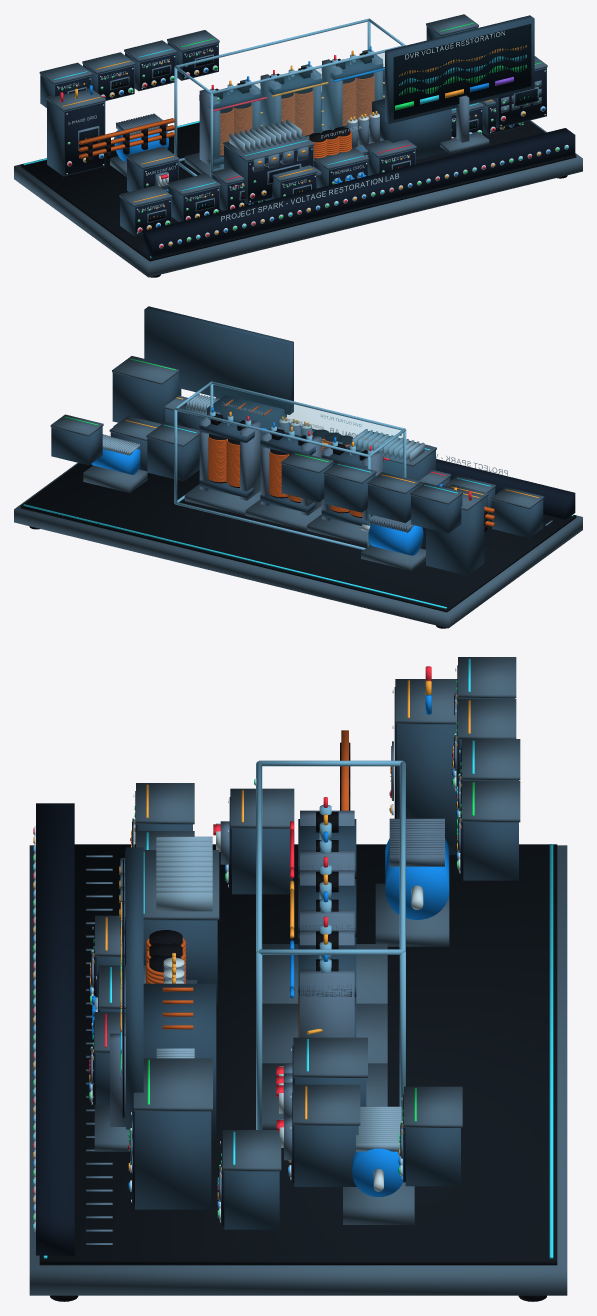
File: Level62_Complete_ArtKit_Showcase.fbx
The picture shows the model from 3 angles, top to bottom: view 1: azimuth 30°, elevation 25°; view 2: azimuth 150°, elevation 25°; view 3: azimuth 270°, elevation 25°; orthographic projection. The views are drawn at different scales.
Visible parts, largest first — view 1: L62_IndustrialVoltageRestorationBase__FrontTerminalPod, L62_IndustrialVoltageRestorationBase__CNCAnodizedBench, L62_TransparentSafetyEnclosure__PolycarbonateSafetyDoor, L62_HolographicVoltageMonitor__ActiveHoloDisplay, L62_IndustrialVoltageRestorationBase__CarbonDeck, L62_HolographicVoltageMonitor__HolographicScreenFrame, L62_SupercapacitorEnergyBank__SuperCapRack, L62_ThreePhaseGridSource__ThreePhaseGridSourceFrontFace, L62_ThreePhaseGridSource__ThreePhaseGridSourceDiecastCase, L62_SeriesInjectionTransformerA__AVerticalCore-1, L62_TransparentSafetyEnclosure__TransformerGuardBeam (×2), L62_SeriesInjectionTransformerC__CVerticalCore-1 (+49 smaller); view 2: L62_IndustrialVoltageRestorationBase__CarbonDeck, L62_HolographicVoltageMonitor__HolographicScreenFrame, L62_IndustrialVoltageRestorationBase__CNCAnodizedBench, L62_TransparentSafetyEnclosure__PolycarbonateSafetyDoor, L62_ThreePhaseGridSource__ThreePhaseGridSourceDiecastCase, L62_SensitiveElectronicsLoad__SensitiveElectronicsDiecastCas, L62_IndustrialVoltageRestorationBase__FrontTerminalPod, L62_TransparentSafetyEnclosure__TransformerGuardBeam (×3), L62_InjectionContactorBank__InjectionContactorsDiecastCase, L62_OutputVoltageSensor__VOUTSENSORModuleDiecastCase, L62_PhaseReferencePLL__PHASEPLLModuleDiecastCase, L62_InputVoltageSensor__VINSENSORModuleDiecastCase (+32 smaller); view 3: L62_IndustrialVoltageRestorationBase__CarbonDeck, L62_IndustrialVoltageRestorationBase__CNCAnodizedBench, L62_IndustrialVoltageRestorationBase__FrontTerminalPod, L62_SensitiveElectronicsLoad__SensitiveElectronicsDiecastCas, L62_ThreePhaseGridSource__ThreePhaseGridSourceDiecastCase, L62_SupercapacitorEnergyBank__SuperCapRack, L62_HolographicVoltageMonitor__HolographicScreenFrame, L62_SensitiveElectronicsLoad__SensitiveElectronicsTopChamfer, L62_SeriesBypassSwitch__BypassSwitchDiecastCase, L62_SeriesInjectionTransformerB__BTransformerBase, L62_SeriesInjectionTransformerC__CVerticalCore1, L62_SeriesInjectionTransformerA__ATransformerBase (+37 smaller).
Part boxes in pixels (box(x1,y1,x2,y2)): L62_IndustrialVoltageRestorationBase__FrontTerminalPod: box(143, 128, 575, 257); L62_IndustrialVoltageRestorationBase__CNCAnodizedBench: box(14, 120, 582, 277); L62_TransparentSafetyEnclosure__PolycarbonateSafetyDoor: box(214, 53, 384, 170); L62_HolographicVoltageMonitor__ActiveHoloDisplay: box(393, 24, 531, 119); L62_IndustrialVoltageRestorationBase__CarbonDeck: box(20, 93, 576, 261); L62_HolographicVoltageMonitor__HolographicScreenFrame: box(385, 15, 534, 123); L62_SupercapacitorEnergyBank__SuperCapRack: box(372, 98, 451, 159); L62_ThreePhaseGridSource__ThreePhaseGridSourceFrontFace: box(64, 102, 104, 175); L62_ThreePhaseGridSource__ThreePhaseGridSourceDiecastCase: box(47, 99, 105, 176); L62_SeriesInjectionTransformerA__AVerticalCore-1: box(199, 89, 220, 168); L62_TransparentSafetyEnclosure__TransformerGuardBeam (×2): box(176, 18, 404, 94); L62_SeriesInjectionTransformerC__CVerticalCore-1: box(322, 59, 342, 130); L62_IndustrialVoltageRestorationBase__CarbonDeck: box(20, 463, 576, 612); L62_HolographicVoltageMonitor__HolographicScreenFrame: box(144, 306, 293, 414); L62_IndustrialVoltageRestorationBase__CNCAnodizedBench: box(14, 463, 582, 628); L62_TransparentSafetyEnclosure__PolycarbonateSafetyDoor: box(214, 385, 402, 476); L62_ThreePhaseGridSource__ThreePhaseGridSourceDiecastCase: box(426, 499, 484, 575); L62_SensitiveElectronicsLoad__SensitiveElectronicsDiecastCas: box(112, 372, 181, 423); L62_IndustrialVoltageRestorationBase__FrontTerminalPod: box(289, 423, 575, 519); L62_TransparentSafetyEnclosure__TransformerGuardBeam (×3): box(175, 381, 405, 550); L62_InjectionContactorBank__InjectionContactorsDiecastCase: box(147, 435, 199, 481); L62_OutputVoltageSensor__VOUTSENSORModuleDiecastCase: box(51, 426, 102, 465); L62_PhaseReferencePLL__PHASEPLLModuleDiecastCase: box(411, 495, 462, 533); L62_InputVoltageSensor__VINSENSORModuleDiecastCase: box(492, 499, 543, 537); L62_IndustrialVoltageRestorationBase__CarbonDeck: box(39, 844, 557, 1265); L62_IndustrialVoltageRestorationBase__CNCAnodizedBench: box(29, 845, 567, 1295); L62_IndustrialVoltageRestorationBase__FrontTerminalPod: box(36, 803, 74, 1255); L62_SensitiveElectronicsLoad__SensitiveElectronicsDiecastCas: box(135, 1111, 211, 1209); L62_ThreePhaseGridSource__ThreePhaseGridSourceDiecastCase: box(397, 724, 461, 854); L62_SupercapacitorEnergyBank__SuperCapRack: box(143, 983, 216, 1138); L62_HolographicVoltageMonitor__HolographicScreenFrame: box(126, 847, 143, 1129); L62_SensitiveElectronicsLoad__SensitiveElectronicsTopChamfer: box(133, 1058, 212, 1111); L62_SeriesBypassSwitch__BypassSwitchDiecastCase: box(294, 1125, 358, 1186); L62_SeriesInjectionTransformerB__BTransformerBase: box(262, 1003, 387, 1063); L62_SeriesInjectionTransformerC__CVerticalCore1: box(300, 969, 354, 1037); L62_SeriesInjectionTransformerA__ATransformerBase: box(262, 944, 387, 1003).
Bounding box in the file's own units: 12.5 × 4.08 × 6.7.
